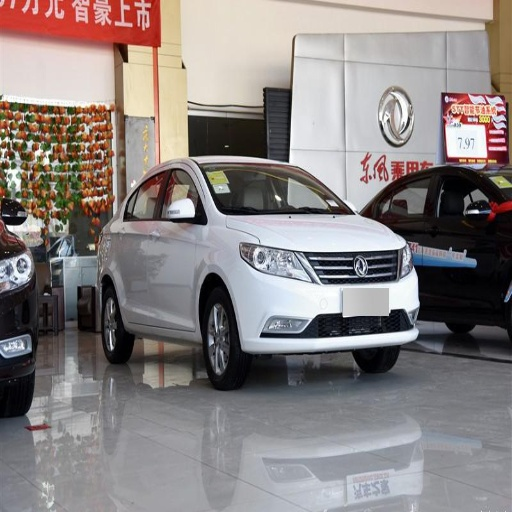front_bumper: (232, 248, 420, 350)
front_right_door: (148, 165, 206, 327)
front_right_light: (239, 241, 311, 280)
